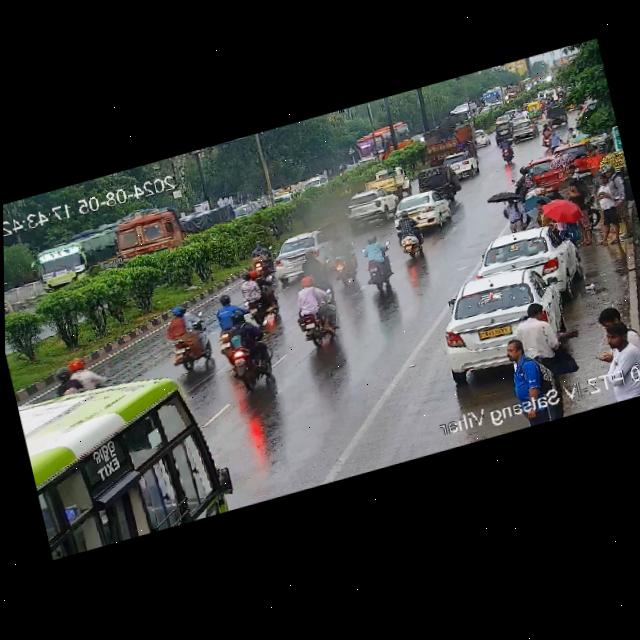bus: (17, 356, 229, 562), (39, 225, 119, 296), (354, 116, 418, 164), (481, 85, 509, 108)
car: (430, 254, 581, 383), (469, 216, 579, 298), (270, 221, 352, 277), (385, 186, 452, 234), (337, 182, 397, 224), (413, 163, 458, 206), (364, 163, 411, 197), (438, 148, 480, 180), (505, 116, 542, 143), (543, 100, 568, 125), (488, 120, 512, 143), (522, 97, 544, 119), (474, 128, 491, 147)
motorcycle: (218, 307, 275, 388), (159, 299, 217, 378), (289, 271, 341, 349), (40, 355, 110, 403), (238, 263, 286, 327), (352, 233, 396, 293), (389, 210, 431, 260), (243, 238, 275, 277), (493, 138, 520, 167), (535, 120, 553, 146)
person: (498, 338, 552, 406), (591, 323, 640, 384), (514, 300, 560, 361), (585, 178, 626, 246), (589, 302, 637, 354), (497, 190, 532, 235), (545, 121, 581, 148), (558, 165, 584, 200), (528, 196, 551, 222)
truck: (114, 184, 254, 264), (418, 109, 479, 167)
